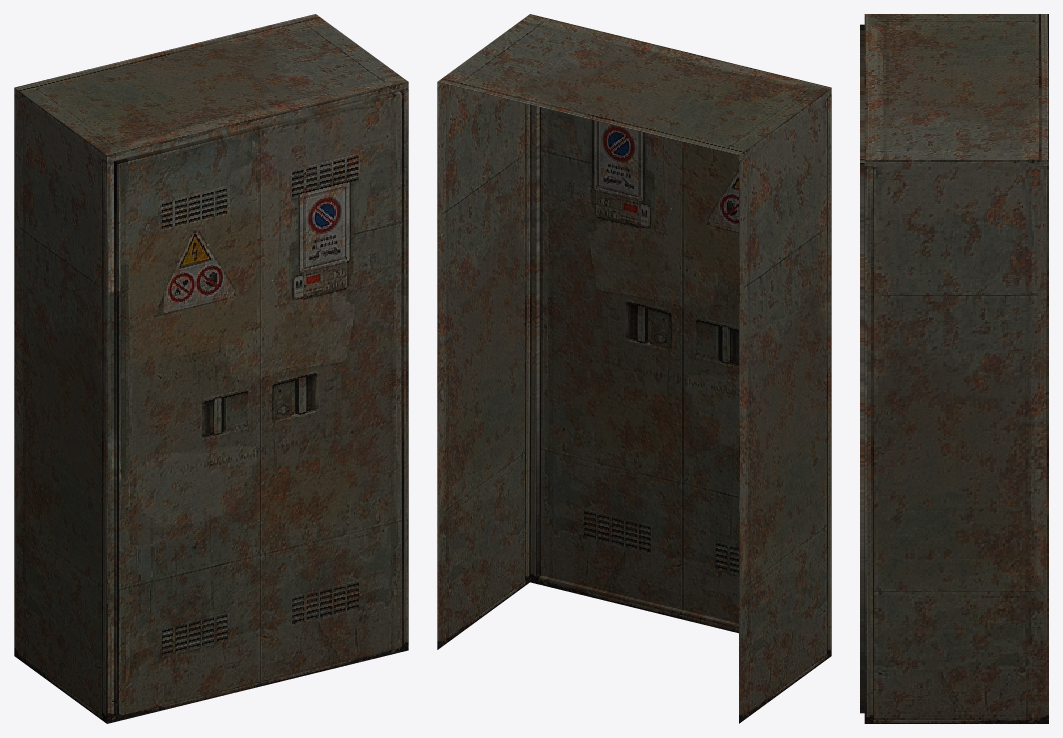
Rendered from electrical_equipment_2.glb.
3 renders of one model, left to right at view 1: azimuth 30°, elevation 25°; view 2: azimuth 150°, elevation 25°; view 3: azimuth 270°, elevation 25°, orthographic.
Parts seen in each view (by area): view 1: electrical_equipment_2; view 2: electrical_equipment_2; view 3: electrical_equipment_2.
Part boxes in pixels (x1,y1,x2,y2): electrical_equipment_2: (14,14,408,723); electrical_equipment_2: (437,14,831,723); electrical_equipment_2: (860,14,1048,723).
Bounding box in the file's own units: 1.5 × 2.7 × 0.82.
1 material, 1 textured.
